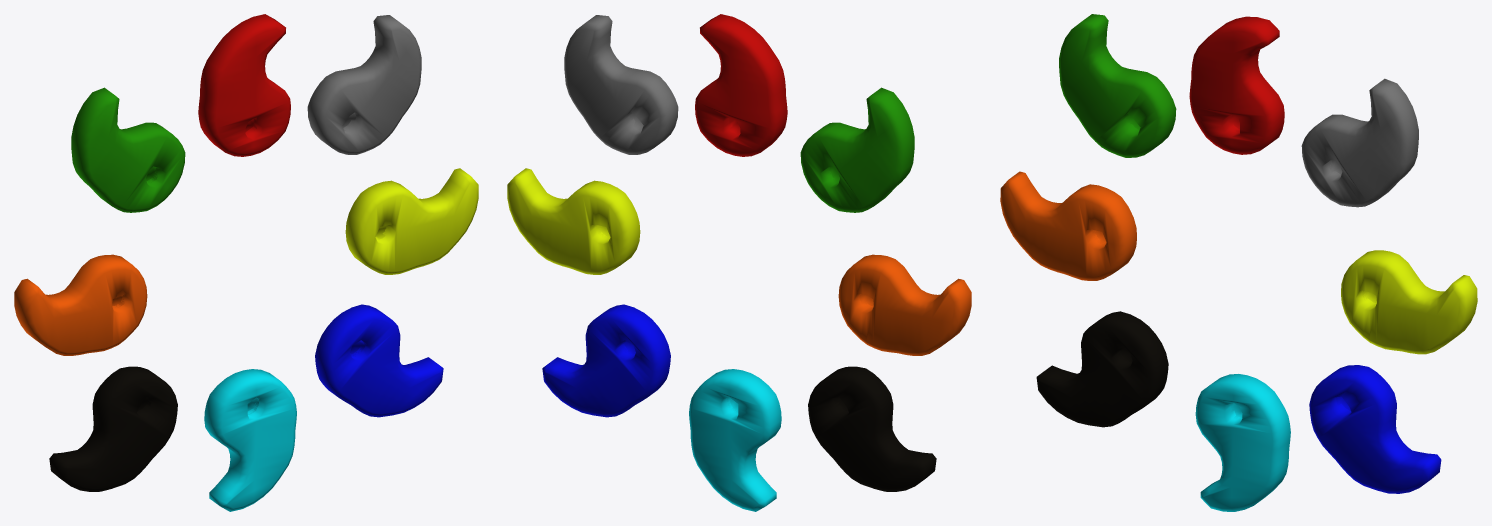
File: Magav2.fbx
3 renders of one model, left to right at view 1: azimuth 30°, elevation 25°; view 2: azimuth 150°, elevation 25°; view 3: azimuth 330°, elevation 25°, orthographic. The views are drawn at different scales.
Parts seen in each view (by area): view 1: Vert.009, Vert.003, Vert.002, Vert.006, Vert.008, Vert.004, Vert.005, Vert.007; view 2: Vert.009, Vert.003, Vert.002, Vert.006, Vert.008, Vert.004, Vert.005, Vert.007; view 3: Vert.005, Vert.007, Vert.004, Vert.006, Vert.002, Vert.008, Vert.009, Vert.003.
Boxes of the visible parts, bbox=[...] form: Vert.009: bbox=[307, 15, 421, 154]; Vert.003: bbox=[49, 366, 177, 491]; Vert.002: bbox=[204, 369, 296, 511]; Vert.006: bbox=[198, 14, 290, 156]; Vert.008: bbox=[345, 168, 478, 274]; Vert.004: bbox=[14, 254, 147, 355]; Vert.005: bbox=[71, 87, 185, 212]; Vert.007: bbox=[315, 304, 443, 417]; Vert.009: bbox=[564, 15, 678, 154]; Vert.003: bbox=[808, 366, 936, 491]; Vert.002: bbox=[689, 369, 781, 511]; Vert.006: bbox=[695, 14, 787, 156]; Vert.008: bbox=[507, 168, 640, 274]; Vert.004: bbox=[838, 254, 971, 355]; Vert.005: bbox=[800, 87, 914, 212]; Vert.007: bbox=[542, 304, 670, 417]; Vert.005: bbox=[1059, 14, 1176, 157]; Vert.007: bbox=[1309, 365, 1441, 493]; Vert.004: bbox=[1000, 171, 1136, 280]; Vert.006: bbox=[1189, 16, 1284, 154]; Vert.002: bbox=[1195, 374, 1290, 511]; Vert.008: bbox=[1341, 250, 1477, 354]; Vert.009: bbox=[1301, 78, 1418, 207]; Vert.003: bbox=[1036, 311, 1168, 427].
Size of the model in its own units: 1418 by 1431 by 82.17.
